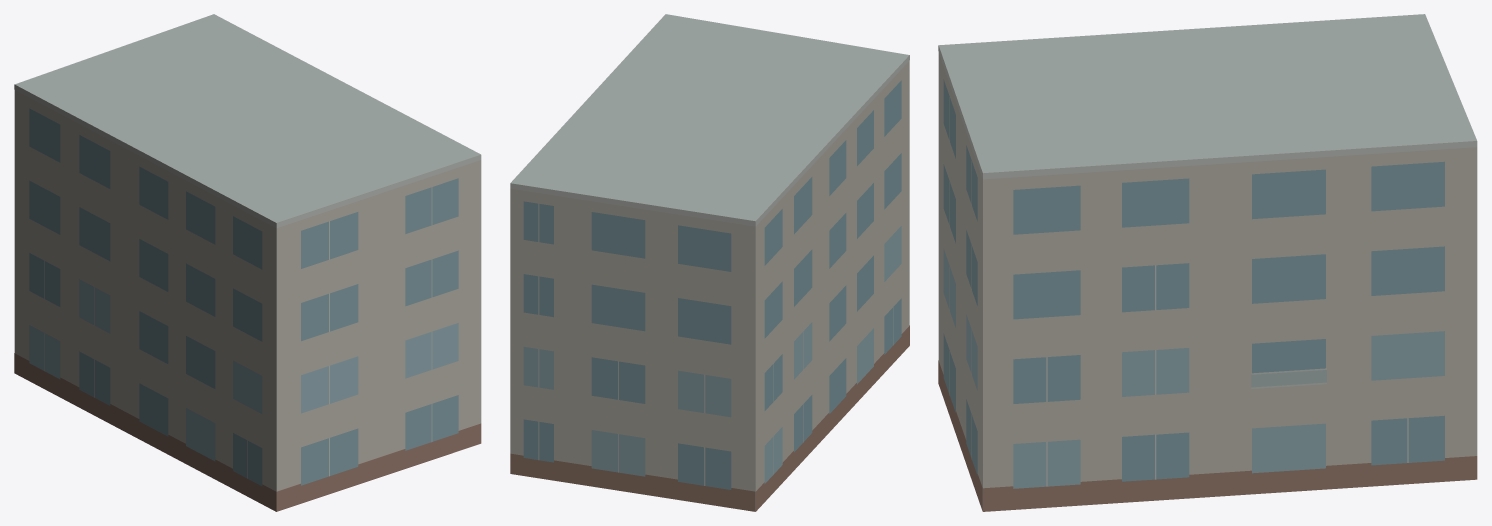
File: survey-upis-32939597.glb
3 renders of one model, left to right at view 1: azimuth 30°, elevation 25°; view 2: azimuth 150°, elevation 25°; view 3: azimuth 270°, elevation 25°, orthographic. The views are drawn at different scales.
Parts seen in each view (by area): view 1: survey-upis-32939597.tmp; view 2: survey-upis-32939597.tmp; view 3: survey-upis-32939597.tmp.
Boxes of the visible parts, left/top/right/bottom form: survey-upis-32939597.tmp: left=14, top=14, right=481, bottom=511; survey-upis-32939597.tmp: left=510, top=14, right=909, bottom=511; survey-upis-32939597.tmp: left=938, top=14, right=1477, bottom=511.
Bounding box in the file's own units: 13.41 × 13.3 × 19.18.
